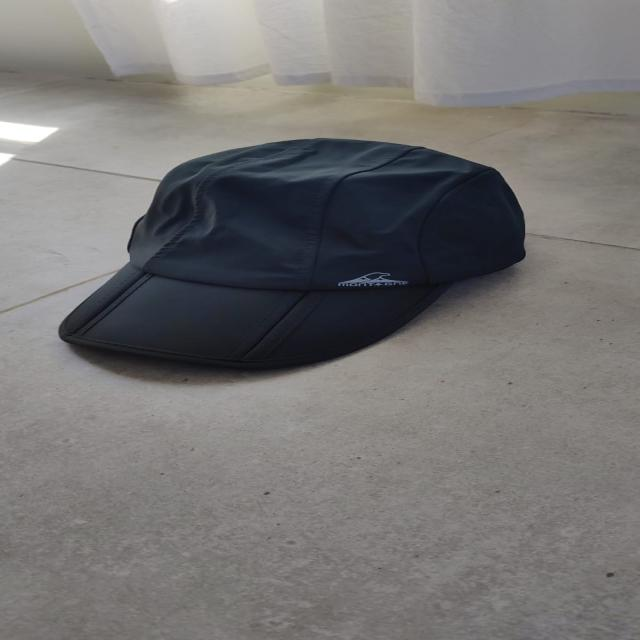Gorra: (54, 134, 550, 383)
